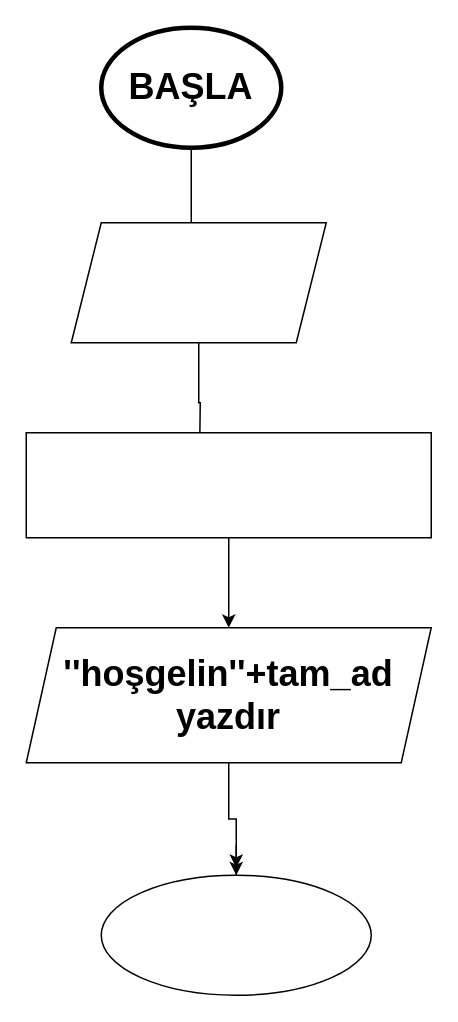
Some shapes in this 458 by 1022 pixel diagram are drawn without their labels. Here are the shapes that lost their labels. From the top down, the centre of each, then its label:
At (198,282): "ad soyad bilgisini al".
At (228,484): "tam_ad=ad+soyad".
